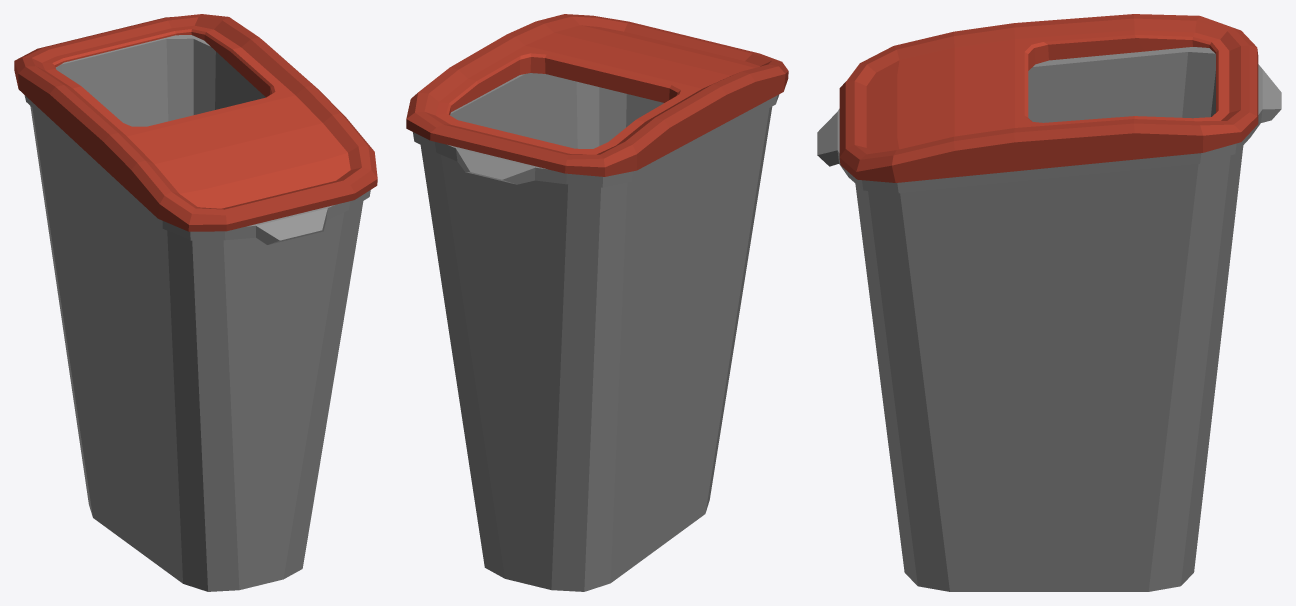
The model's file is Int_Bin03_3.fbx.
The picture shows the model from 3 angles, left to right: view 1: azimuth 30°, elevation 25°; view 2: azimuth 150°, elevation 25°; view 3: azimuth 270°, elevation 25°; orthographic projection. The views are drawn at different scales.
Visible parts, largest first — view 1: Int_Bin03_3; view 2: Int_Bin03_3; view 3: Int_Bin03_3.
Boxes of the visible parts, <box> form: Int_Bin03_3: <box>14,14,377,591</box>; Int_Bin03_3: <box>406,14,788,591</box>; Int_Bin03_3: <box>817,14,1281,591</box>.
Size of what is drawn, in the model's own units: 54.98 by 93.33 by 109.
